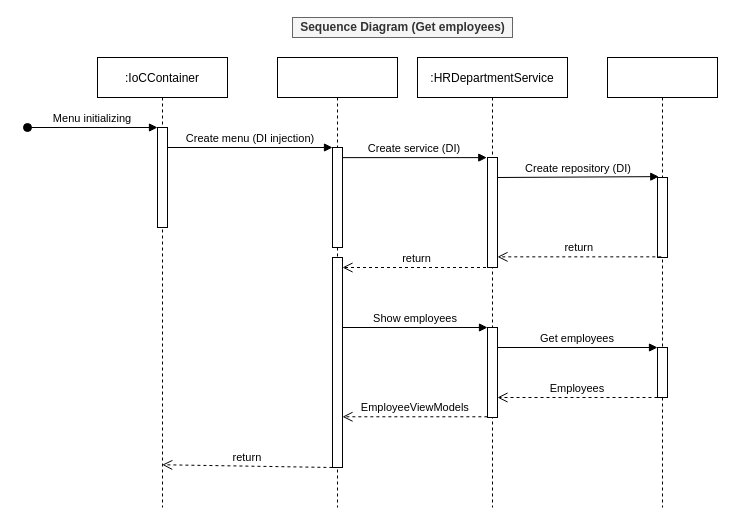
Image size: 735x525. Some labels were removed from this diagram. The shapes that lost their labels are listed below. From the top down, each one's centre as x and y in pixels, then its label:
(x=337, y=282): :HRDepartmentMenu
(x=662, y=282): :Repository
